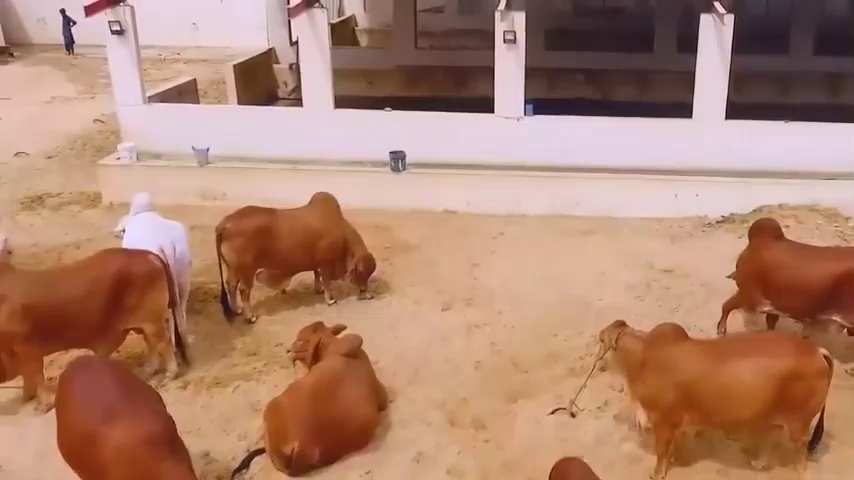bo: (574, 310, 833, 480), (2, 241, 180, 401), (211, 184, 388, 324), (709, 207, 854, 348), (51, 346, 202, 480), (256, 319, 391, 464), (104, 194, 191, 349)
